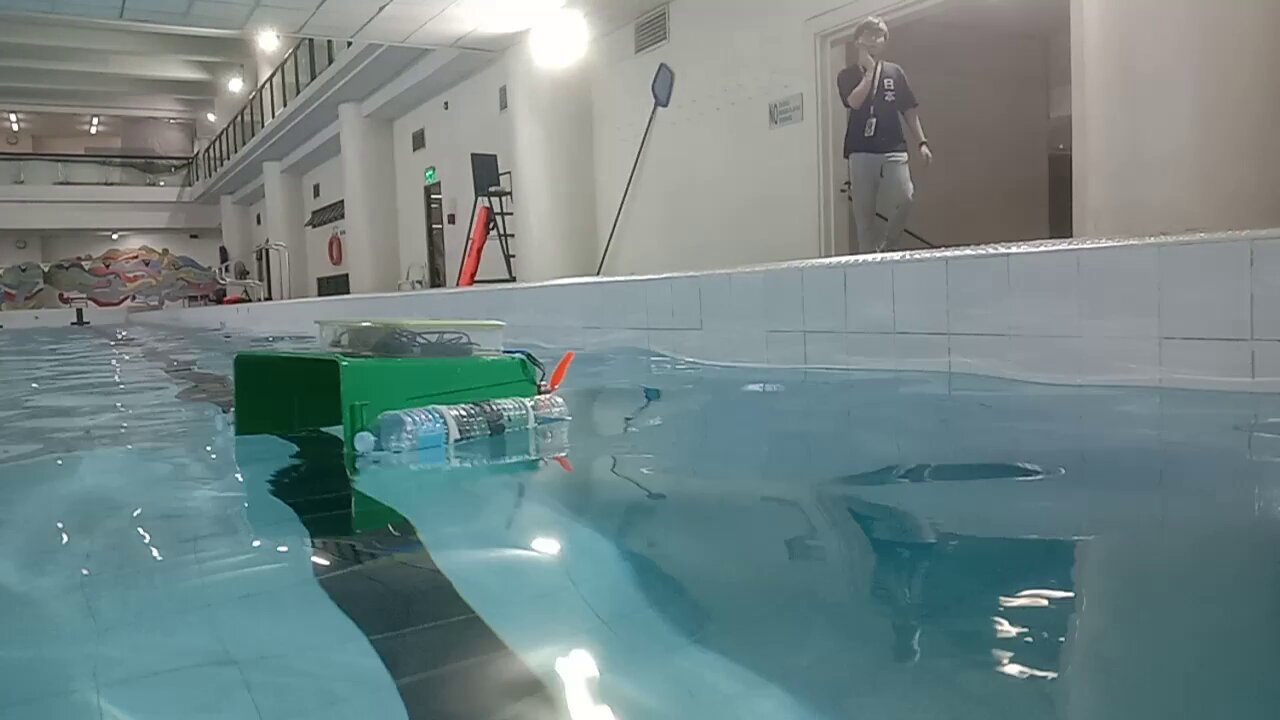drone: (233, 319, 574, 454)
